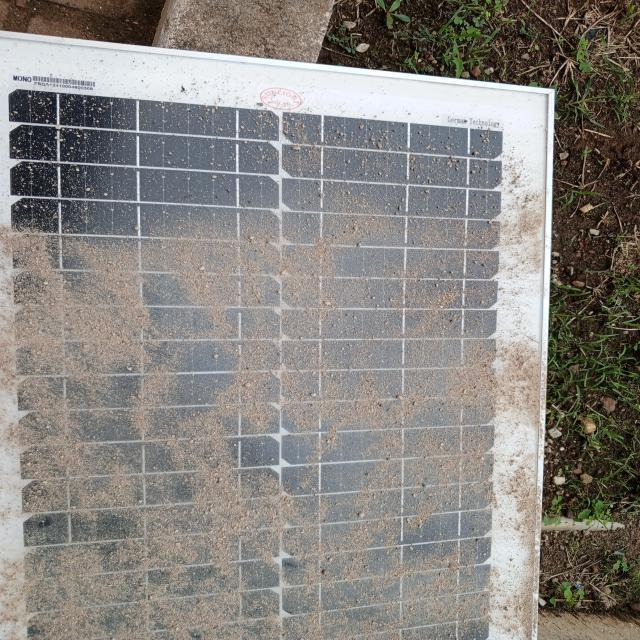Surface Contaminant: (22, 142, 529, 639)
